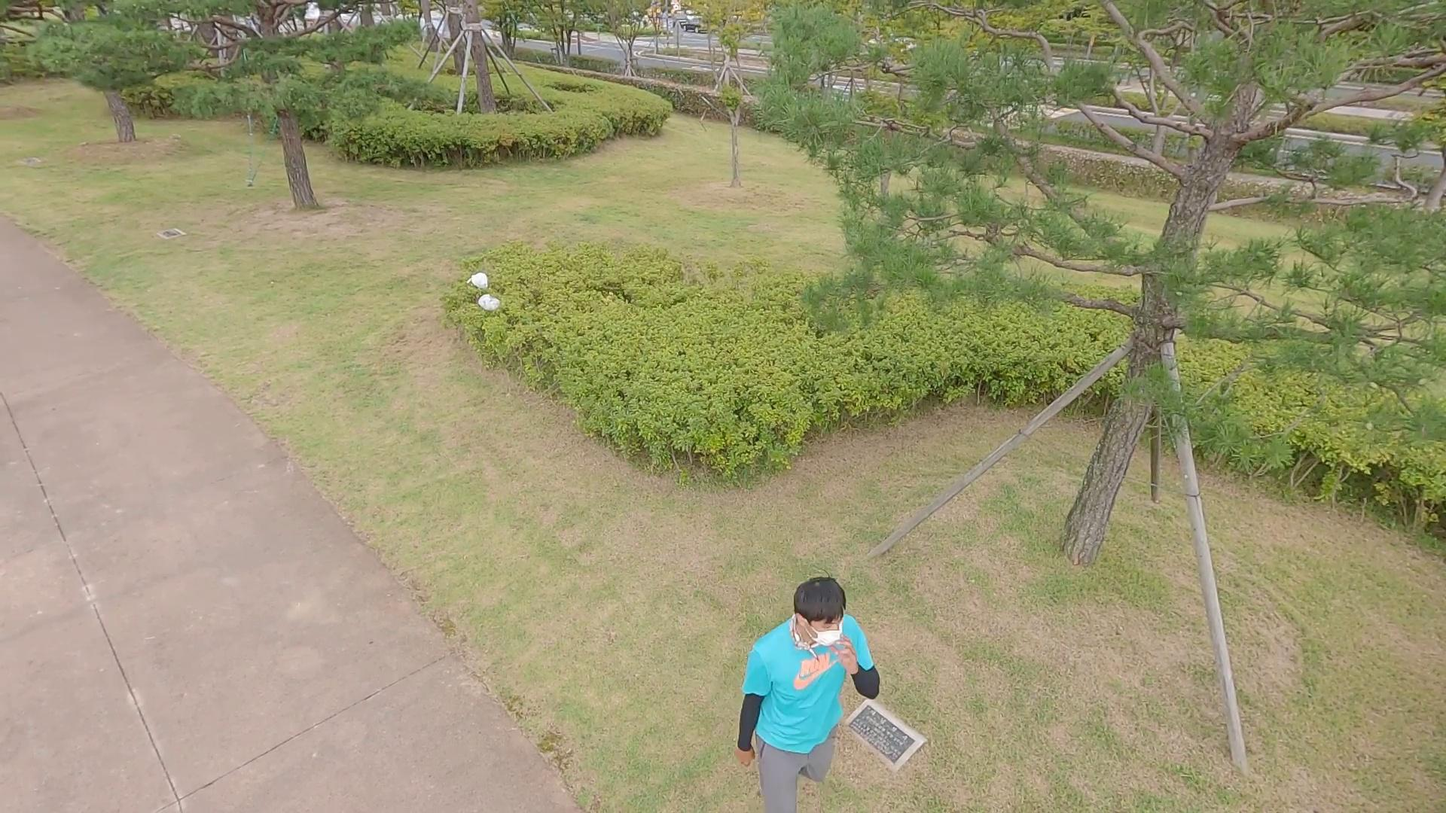person: (737, 578, 878, 807)
trash: (476, 292, 501, 313), (472, 267, 489, 291)
